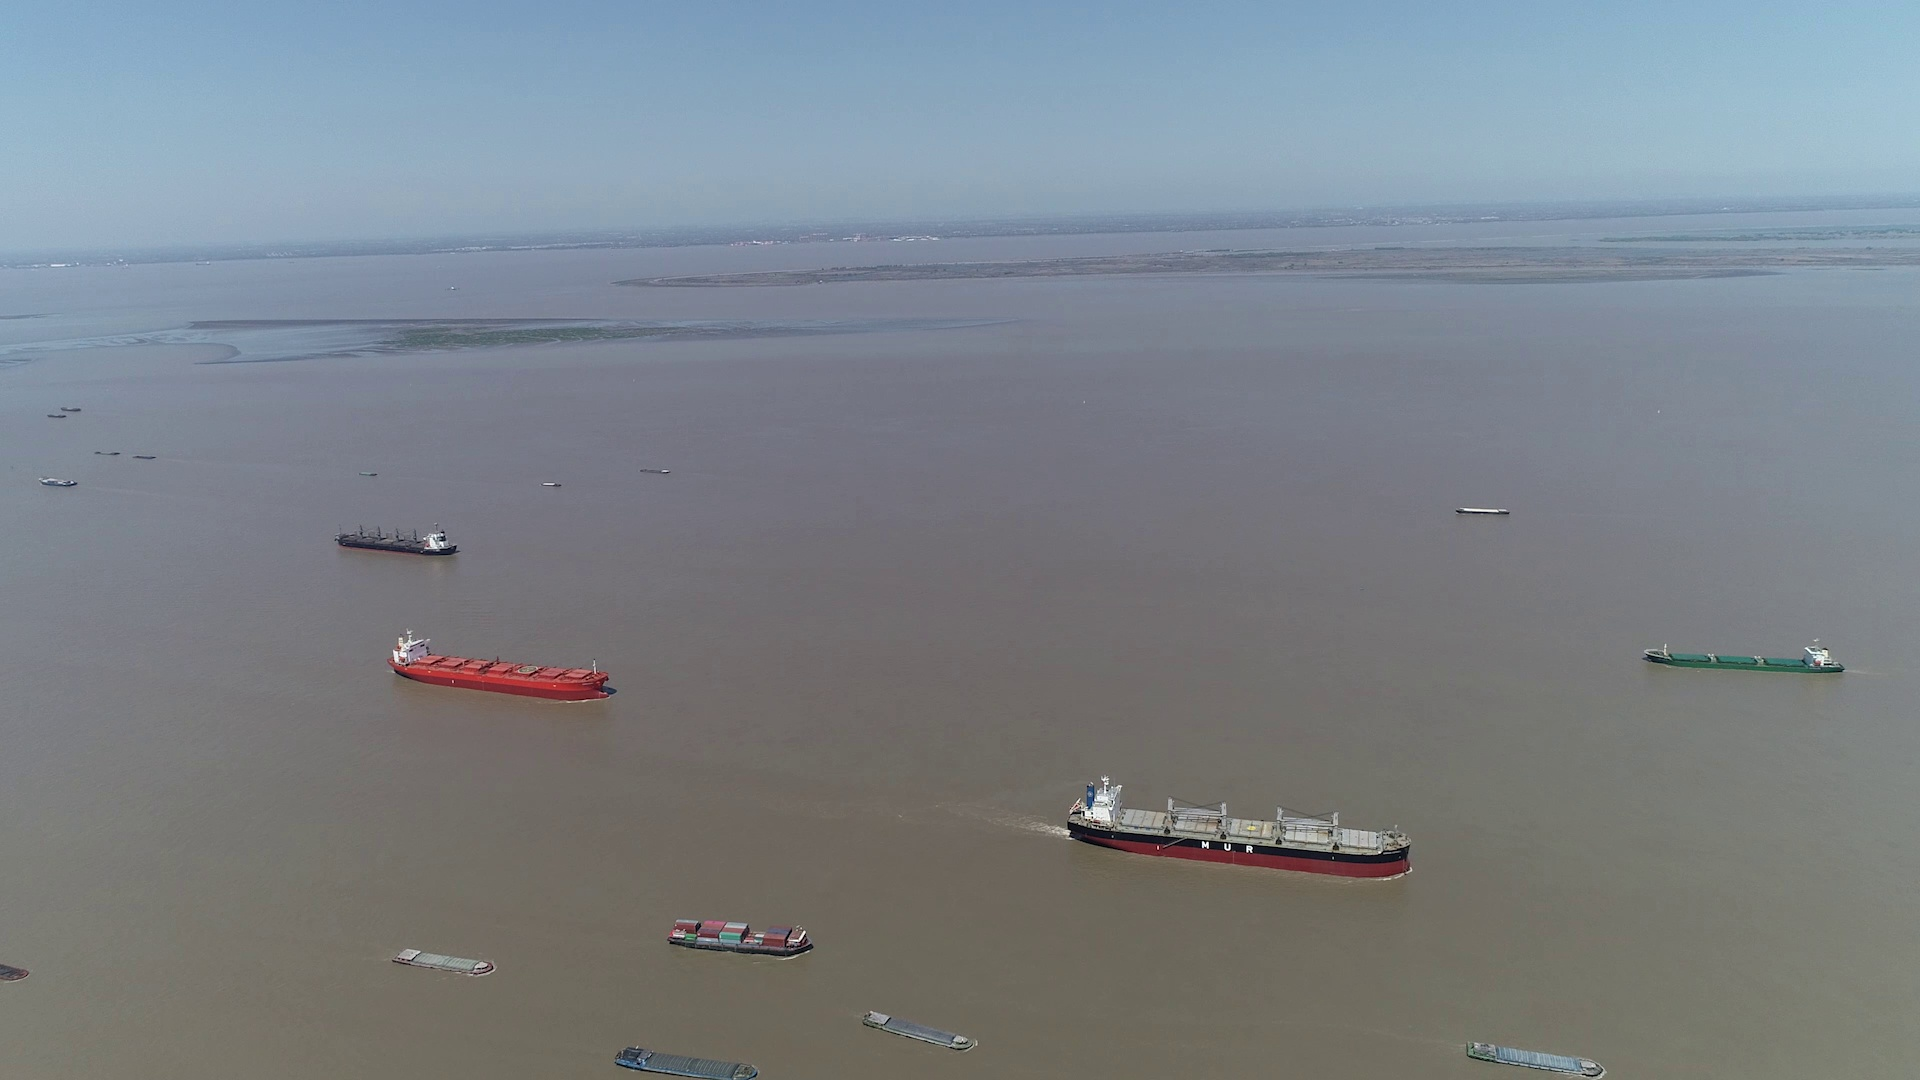ship: (1065, 777, 1416, 878), (392, 634, 608, 702), (1646, 642, 1844, 673), (666, 918, 812, 957), (1468, 1040, 1604, 1077), (864, 1010, 978, 1054), (611, 1046, 761, 1079), (336, 521, 458, 555), (394, 947, 496, 976), (0, 960, 29, 981), (1455, 506, 1509, 516), (40, 476, 80, 487)
